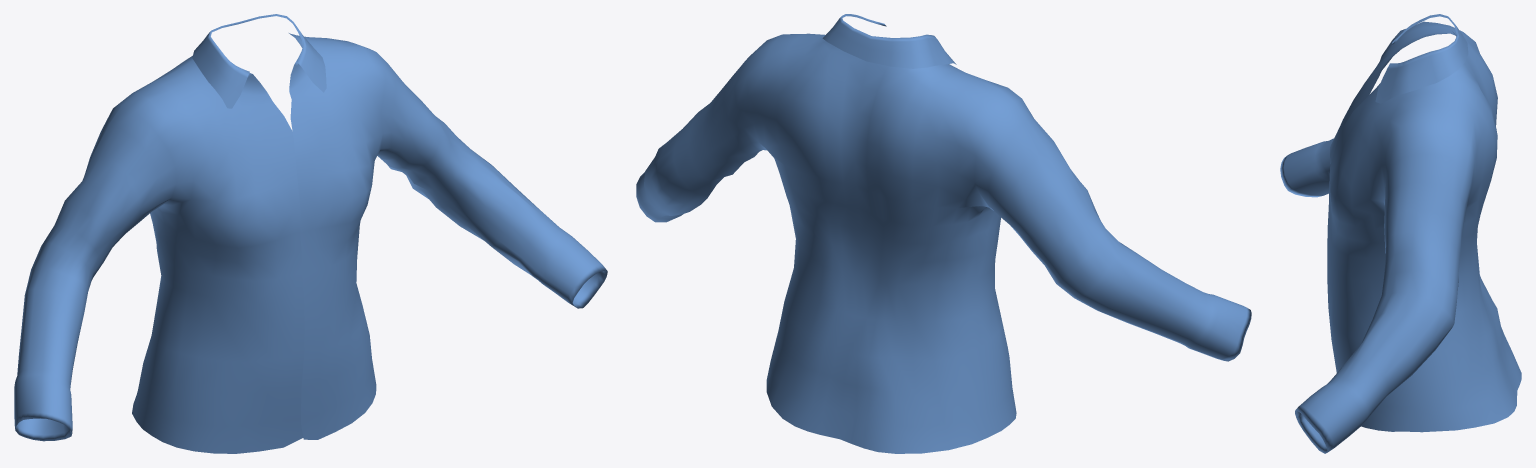
Rendered from shirt.glb.
3 views of the same model, side by side, from view 1: azimuth 30°, elevation 25°; view 2: azimuth 150°, elevation 25°; view 3: azimuth 270°, elevation 25° (orthographic). The views are drawn at different scales.
Parts seen in each view (by area): view 1: shirt-male_casualsuit03; view 2: shirt-male_casualsuit03; view 3: shirt-male_casualsuit03.
Part boxes in pixels (box(x1,y1,x2,y2)): shirt-male_casualsuit03: box(14, 14, 607, 453); shirt-male_casualsuit03: box(636, 14, 1251, 453); shirt-male_casualsuit03: box(1280, 14, 1521, 453).
Bounding box in the file's own units: 0.9682 × 0.5993 × 0.3568.
